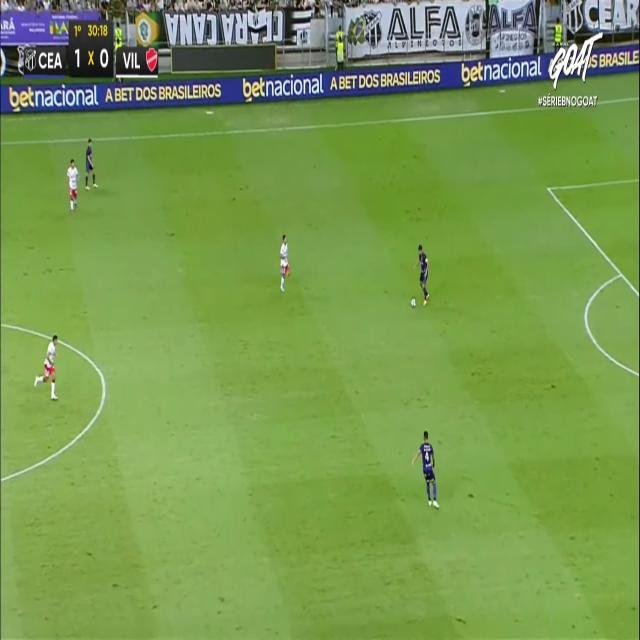ball: (412, 295, 416, 311)
player: (412, 430, 440, 509), (34, 333, 59, 400), (413, 243, 429, 305), (84, 138, 98, 189), (279, 234, 291, 292), (66, 159, 78, 213)
